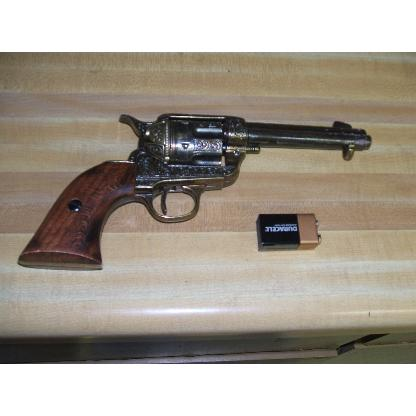gun: (18, 113, 372, 271)
